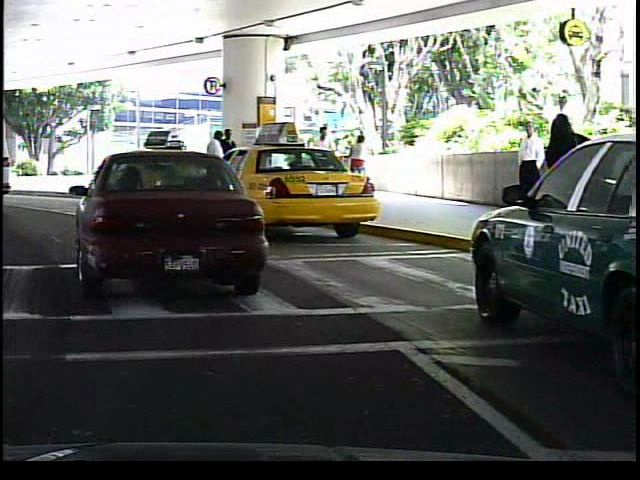person: (538, 105, 594, 257), (507, 113, 546, 222), (307, 123, 337, 194), (202, 128, 228, 198), (344, 130, 371, 192), (220, 125, 239, 195)
